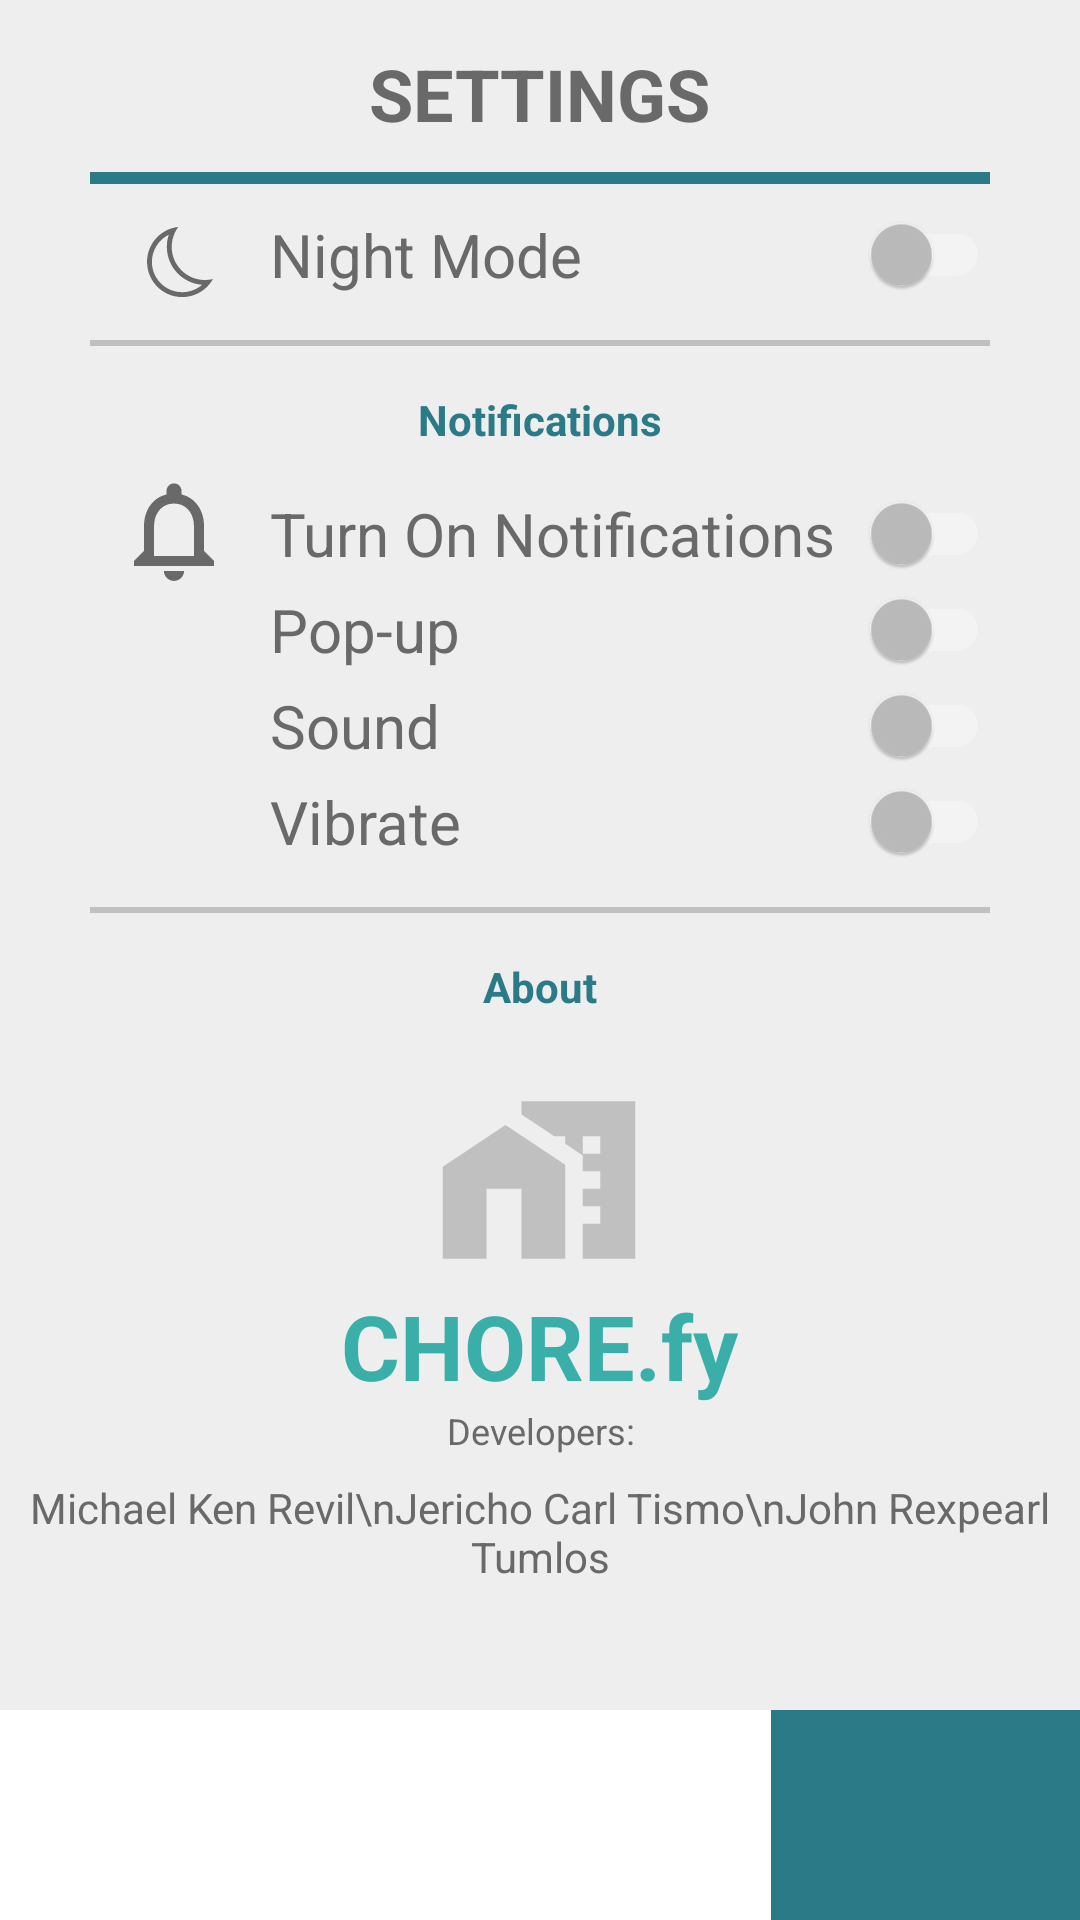

Icons on this 1080 × 1920 Android screen, each with the point to tap as [x,y]:
home work: [539,1180]
